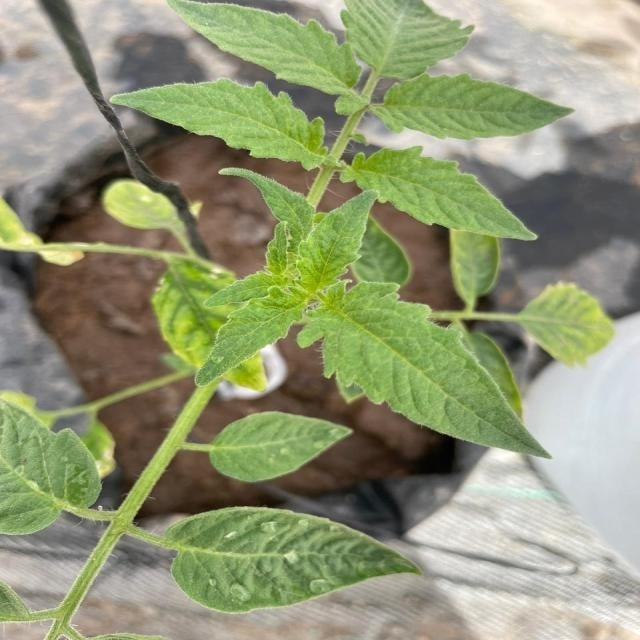T_L_R: (299, 284, 546, 457), (166, 509, 421, 614), (113, 80, 328, 171), (341, 147, 536, 241), (170, 1, 361, 96), (1, 401, 103, 536), (371, 75, 573, 141), (198, 287, 308, 386), (343, 1, 474, 81), (298, 192, 376, 296), (221, 169, 316, 254), (206, 272, 291, 307), (266, 222, 288, 276)
T_S_R: (47, 371, 226, 640)
